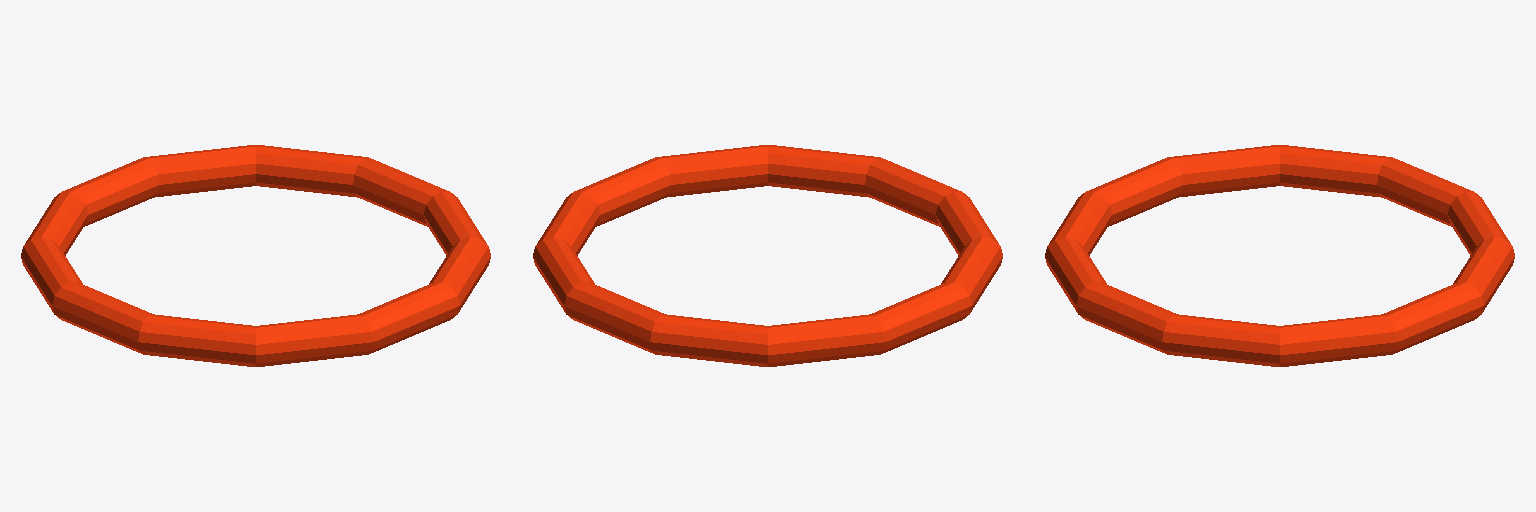
3 views of the same model, side by side, from view 1: azimuth 30°, elevation 25°; view 2: azimuth 150°, elevation 25°; view 3: azimuth 270°, elevation 25° (orthographic).
Parts seen in each view (by area): view 1: トーラス.001; view 2: トーラス.001; view 3: トーラス.001.
Part boxes in pixels (x1,y1,x2,y2): トーラス.001: (21, 145, 490, 366); トーラス.001: (533, 145, 1002, 366); トーラス.001: (1045, 145, 1514, 366).
Bounding box in the file's own units: 2.26 × 0.2 × 2.26.
1 materials, 1 textured.